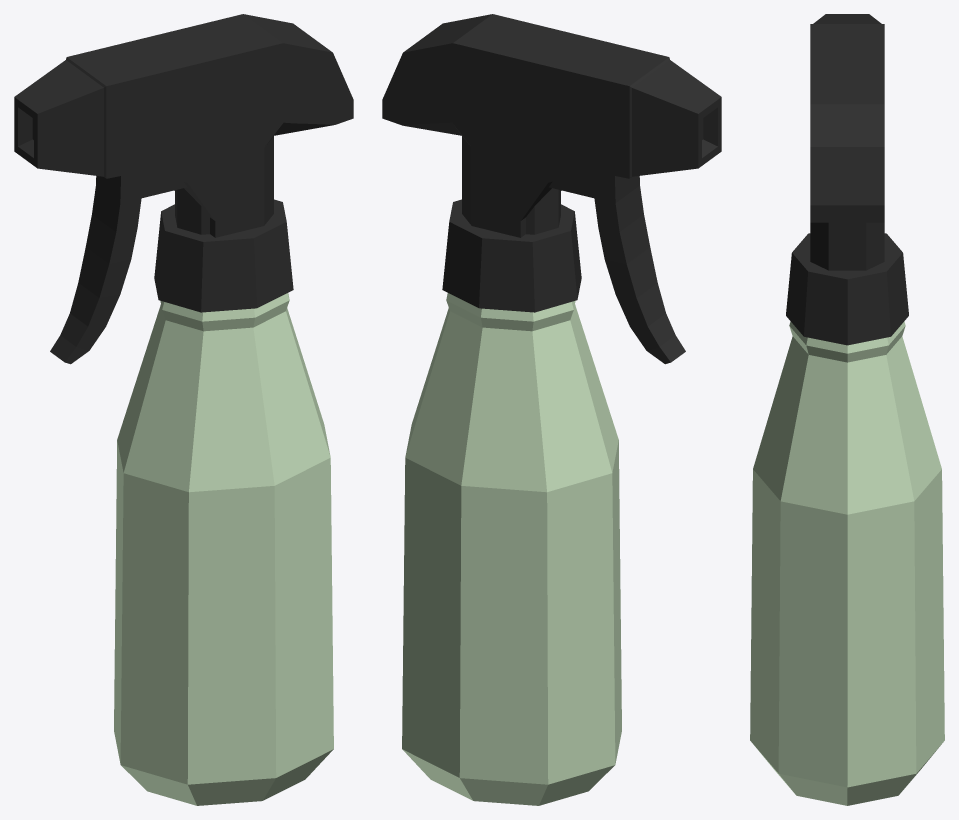
The picture shows the model from 3 angles, left to right: view 1: azimuth 30°, elevation 25°; view 2: azimuth 150°, elevation 25°; view 3: azimuth 270°, elevation 25°; orthographic projection. The views are drawn at different scales.
Visible parts, largest first — view 1: SprayBottle; view 2: SprayBottle; view 3: SprayBottle.
Part boxes in pixels (x1,y1,x2,y2): SprayBottle: [14, 14, 353, 805]; SprayBottle: [382, 14, 721, 805]; SprayBottle: [750, 14, 944, 805].
Bounding box in the file's own units: 0.9548 × 2.18 × 0.5612.
